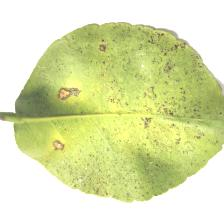canker: (62, 43, 202, 156)
